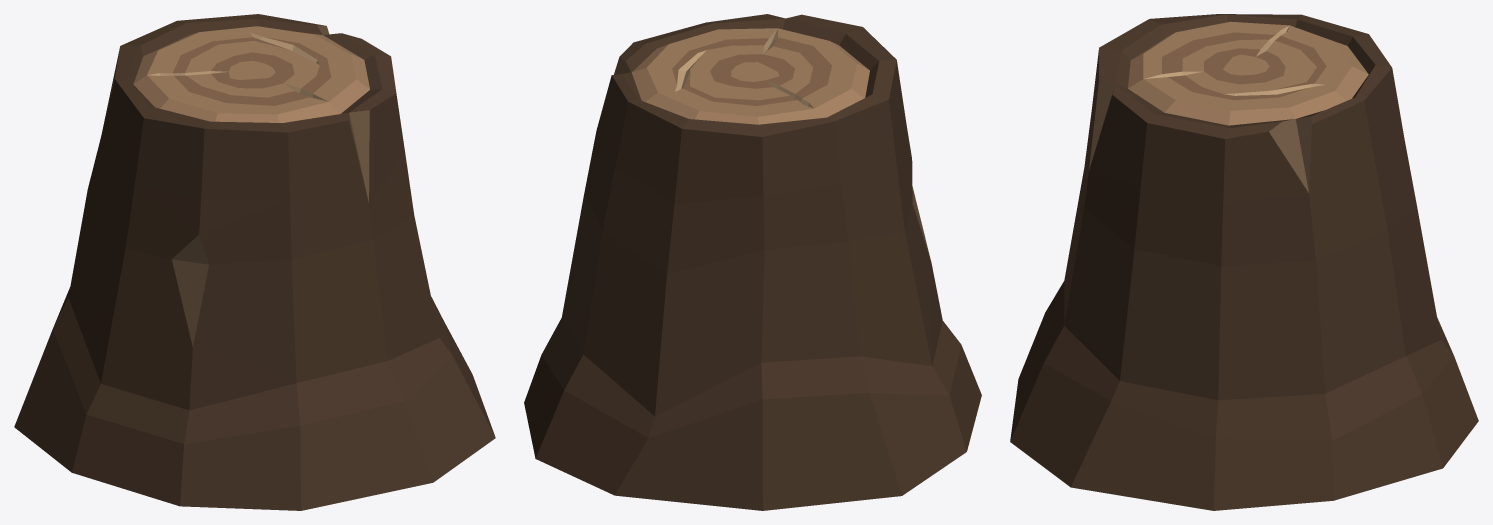
The model's file is SM_Tree_Stump.gltf.
3 renders of one model, left to right at view 1: azimuth 30°, elevation 25°; view 2: azimuth 150°, elevation 25°; view 3: azimuth 270°, elevation 25°, orthographic.
Visible parts, largest first — view 1: SM_Tree_Stump; view 2: SM_Tree_Stump; view 3: SM_Tree_Stump.
Boxes of the visible parts, x1=… form: SM_Tree_Stump: x1=14, y1=14, x2=495, y2=510; SM_Tree_Stump: x1=524, y1=14, x2=981, y2=510; SM_Tree_Stump: x1=1010, y1=14, x2=1478, y2=510.
Bounding box in the file's own units: 0.7892 × 0.6439 × 0.793.
1 material, 1 textured.
